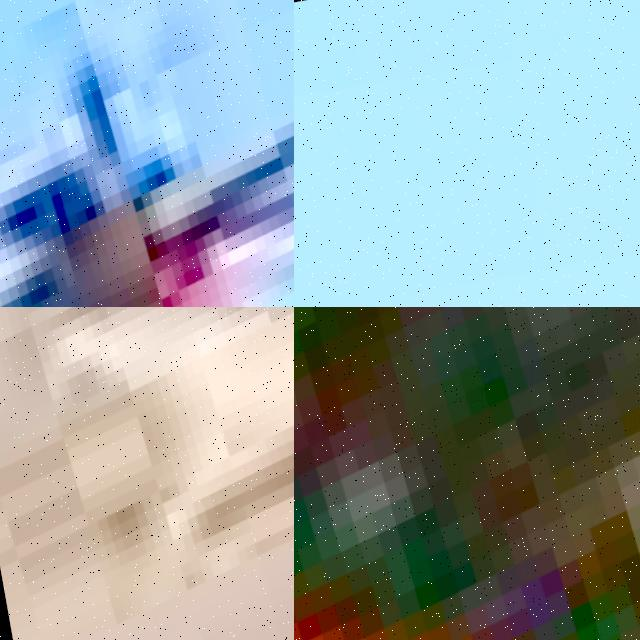drone: (294, 307, 640, 640), (0, 307, 294, 640), (0, 0, 294, 307)
